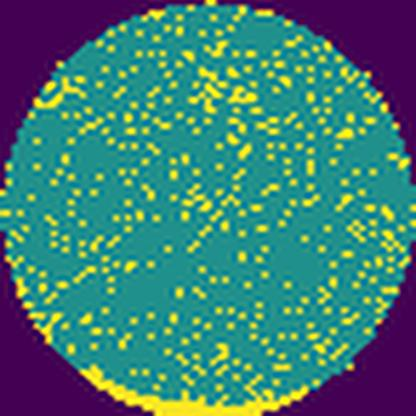Edge-Loc: (70, 361, 326, 416)
